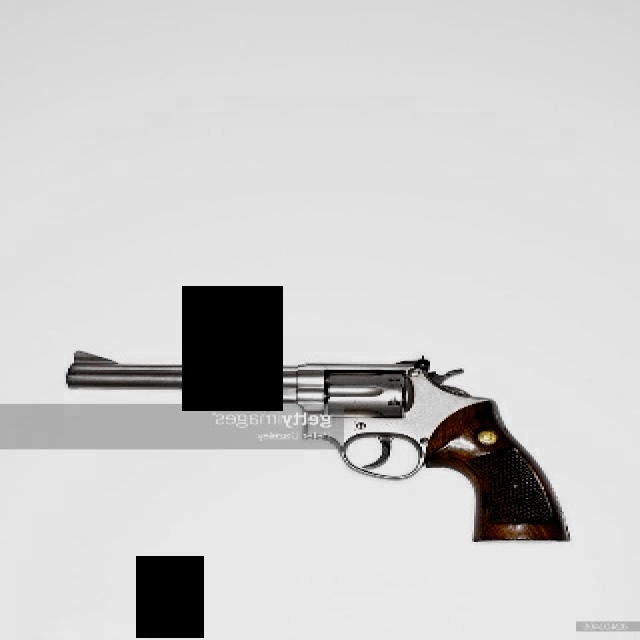gun: (57, 348, 562, 544)
